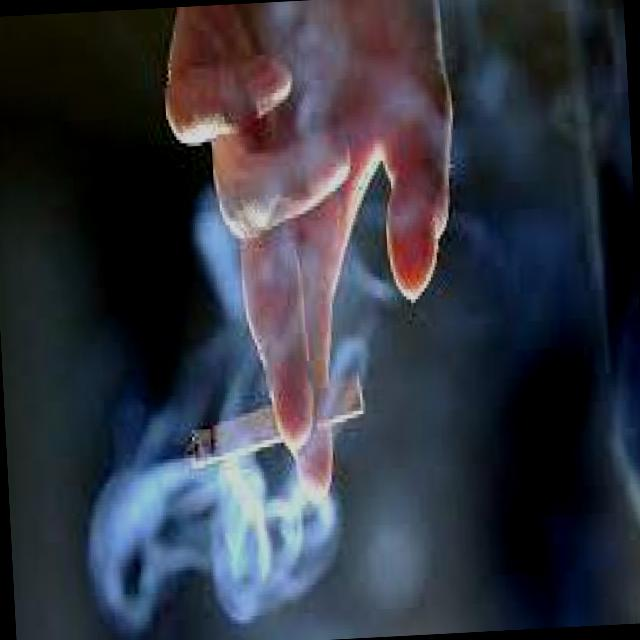smoke: (184, 360, 375, 476)
